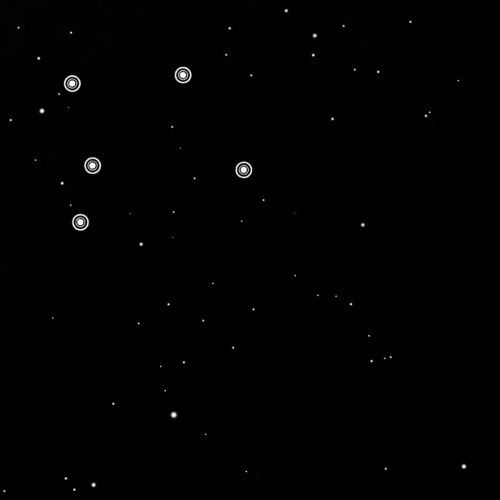libra: (55, 58, 259, 238)
